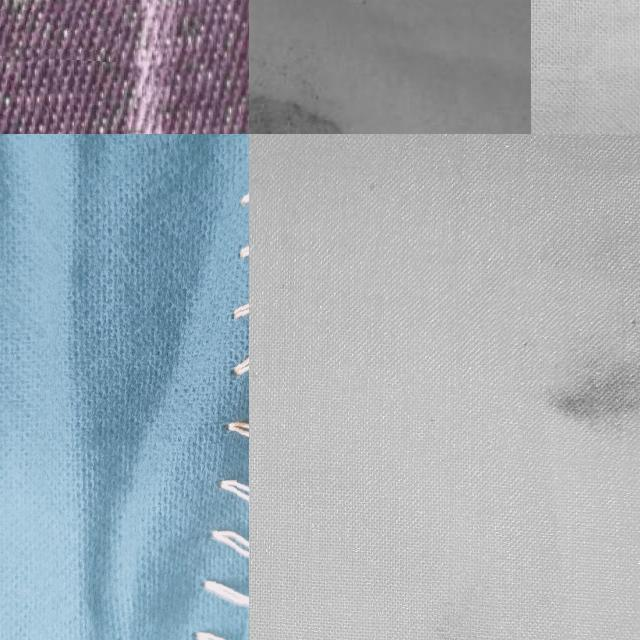Hole: (491, 270, 640, 468), (249, 20, 421, 134)
Stitch: (135, 134, 249, 640)
